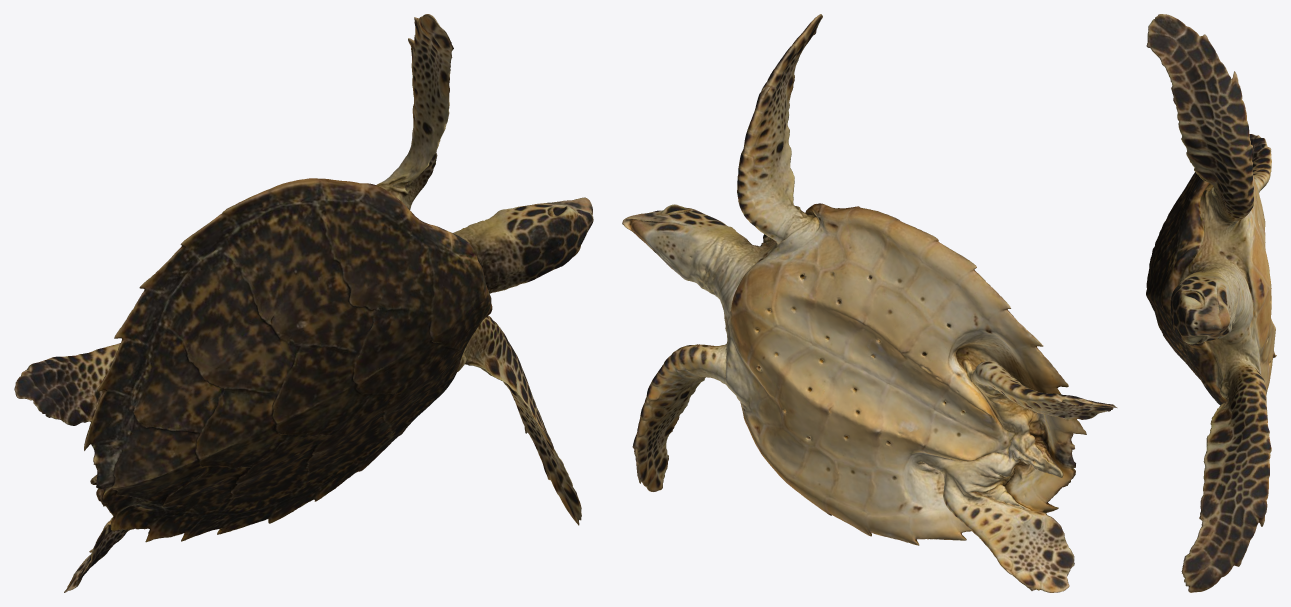
File: sea_turtle-150k-1024-low.glb
3 views of the same model, side by side, from view 1: azimuth 30°, elevation 25°; view 2: azimuth 150°, elevation 25°; view 3: azimuth 270°, elevation 25° (orthographic). The views are drawn at different scales.
Bounding box in the file's own units: 0.4959 × 0.4716 × 0.1103.
1 material, 1 textured.
